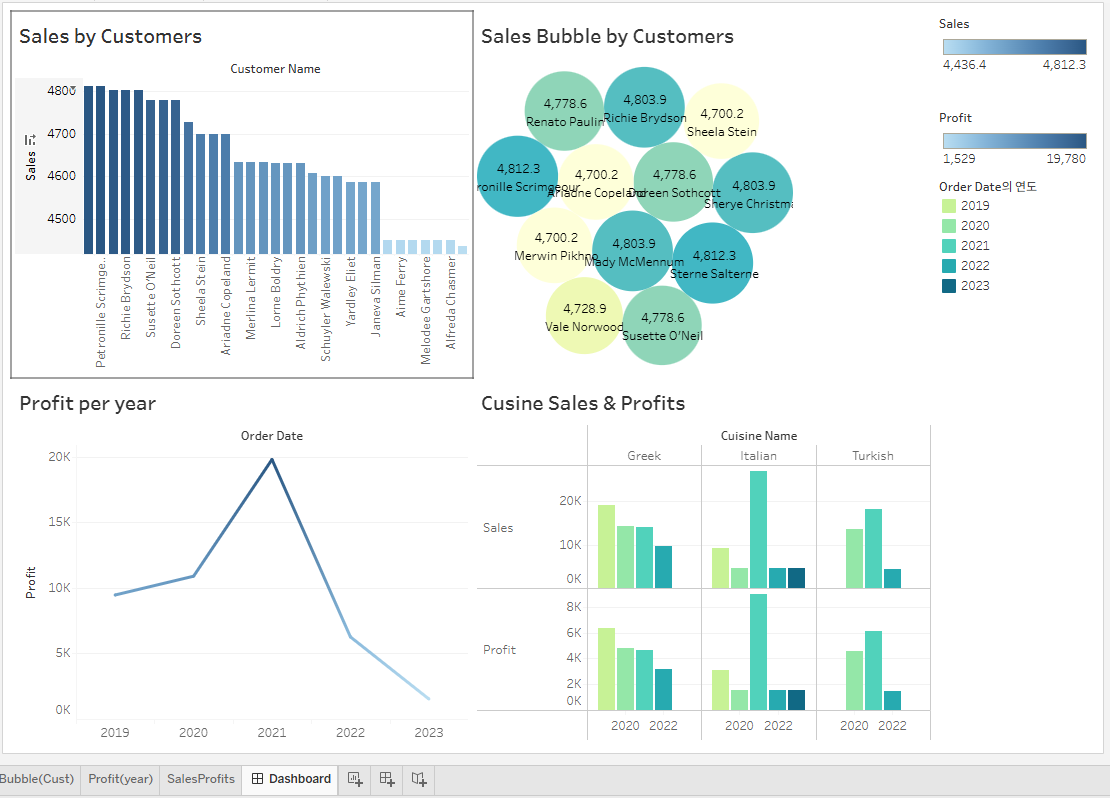

What the dashboard file says about the page in this screenshot:
{"tool":"tableau","page":{"name":"Dashboard","canvas":[1100,750],"ordinal":0},"visuals":[{"type":"worksheet","title":"Sales(Cust)","mark":"Bar","rows":["Sales"],"cols":["Customer Name"],"box":[8,8,462,367]},{"type":"worksheet","title":"Bubble(Cust)","mark":"Circle","box":[470,8,462,367]},{"type":"legend","title":"Sales(Cust)","param":"[federated.0lgze0x0yxdovp18k8xqd1y83kji].[sum:Sales:qk]","box":[932,8,160,68]},{"type":"legend","title":"Bubble(Cust)","param":"[federated.0lgze0x0yxdovp18k8xqd1y83kji].[usr:Calculation_0014371251740695:qk]","box":[932,76,160,26]},{"type":"legend","title":"Profit(year)","param":"[federated.0lgze0x0yxdovp18k8xqd1y83kji].[sum:Calculation_0014371247775762:qk]","box":[932,102,160,68]},{"type":"legend","title":"SalesProfits","param":"[federated.0lgze0x0yxdovp18k8xqd1y83kji].[yr:Order Date:ok]","box":[932,170,160,127]},{"type":"worksheet","title":"Profit(year)","mark":"Line","rows":["Calculation_0014371247775762"],"cols":["Order Date"],"box":[8,375,462,367]},{"type":"worksheet","title":"SalesProfits","mark":"Bar","cols":["Cuisine Name","Order Date"],"box":[470,375,462,367]}]}

Visuals, with their boxes on the page's 1100x750 design canvas (x1, y1, x2, y2). These are canvas units, not pixel positions in the 1110x798 screenshot, which may show the page scaled, cropped or inside an application window:
"Sales(Cust)" worksheet (Bar marks): (left=8, top=8, right=470, bottom=375)
"Bubble(Cust)" worksheet (Circle marks): (left=470, top=8, right=932, bottom=375)
"Sales(Cust)" legend: (left=932, top=8, right=1092, bottom=76)
"Bubble(Cust)" legend: (left=932, top=76, right=1092, bottom=102)
"Profit(year)" legend: (left=932, top=102, right=1092, bottom=170)
"SalesProfits" legend: (left=932, top=170, right=1092, bottom=297)
"Profit(year)" worksheet (Line marks): (left=8, top=375, right=470, bottom=742)
"SalesProfits" worksheet (Bar marks): (left=470, top=375, right=932, bottom=742)
